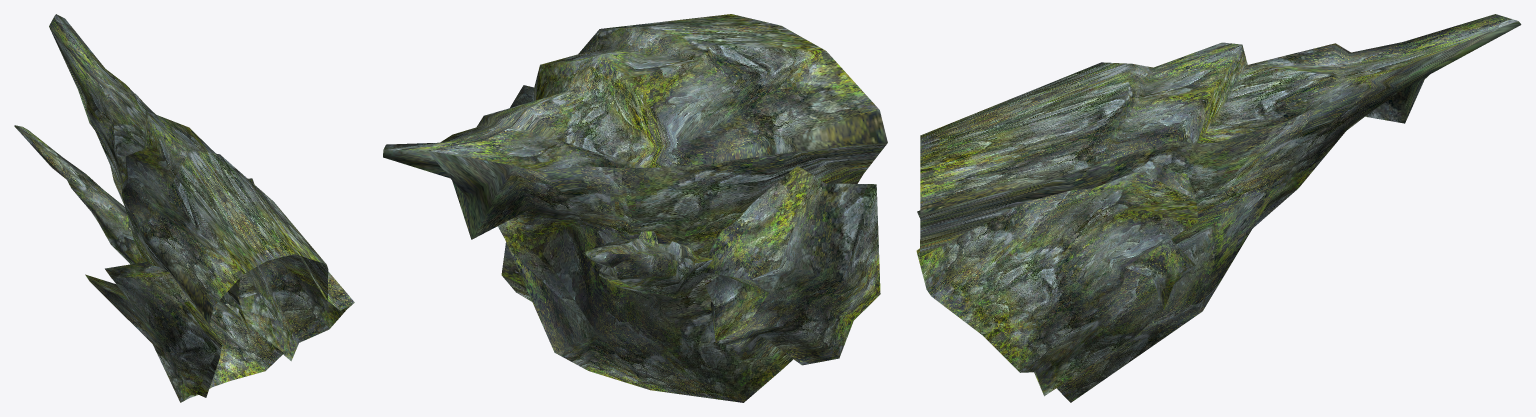
Rendered from S_Rock_Green061.FBX.
3 renders of one model, left to right at view 1: azimuth 30°, elevation 25°; view 2: azimuth 150°, elevation 25°; view 3: azimuth 270°, elevation 25°, orthographic. The views are drawn at different scales.
Parts seen in each view (by area): view 1: S_Rock_Green061; view 2: S_Rock_Green061; view 3: S_Rock_Green061.
Part boxes in pixels (x1,y1,x2,y2): S_Rock_Green061: (14, 14, 354, 402); S_Rock_Green061: (383, 14, 887, 402); S_Rock_Green061: (916, 14, 1521, 402).
Size of the model in its own units: 809 by 1687 by 1081.
